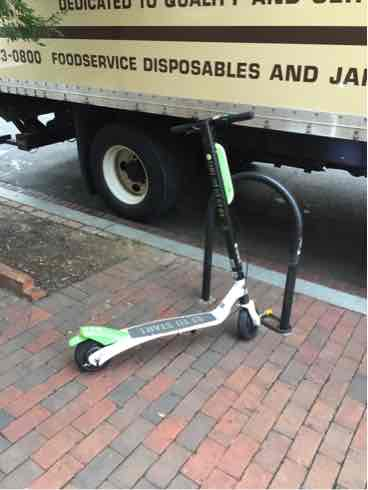scooter: (63, 102, 273, 380)
